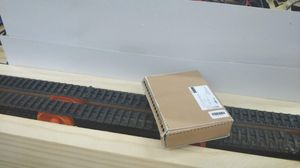box2: (141, 66, 233, 147)
